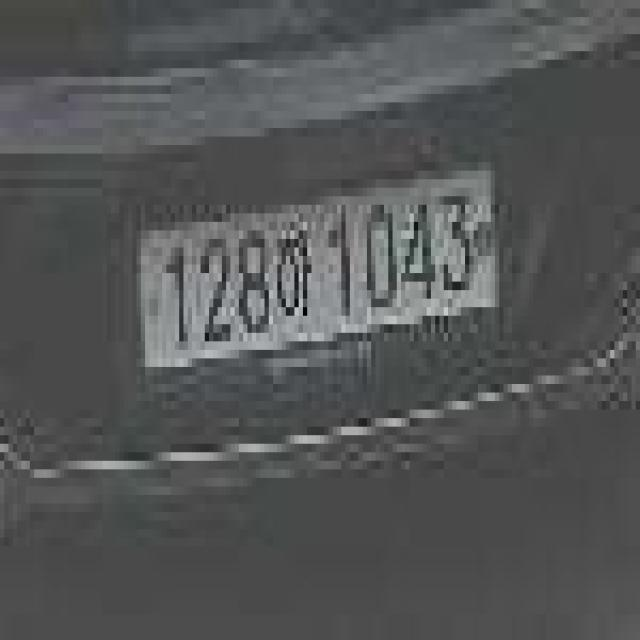illegal_plate: (133, 166, 508, 383)
